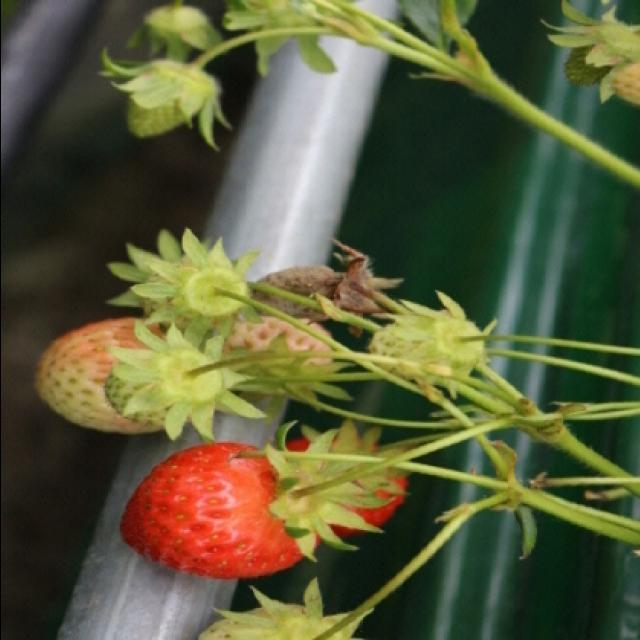Gray Mold: (249, 241, 402, 338)
